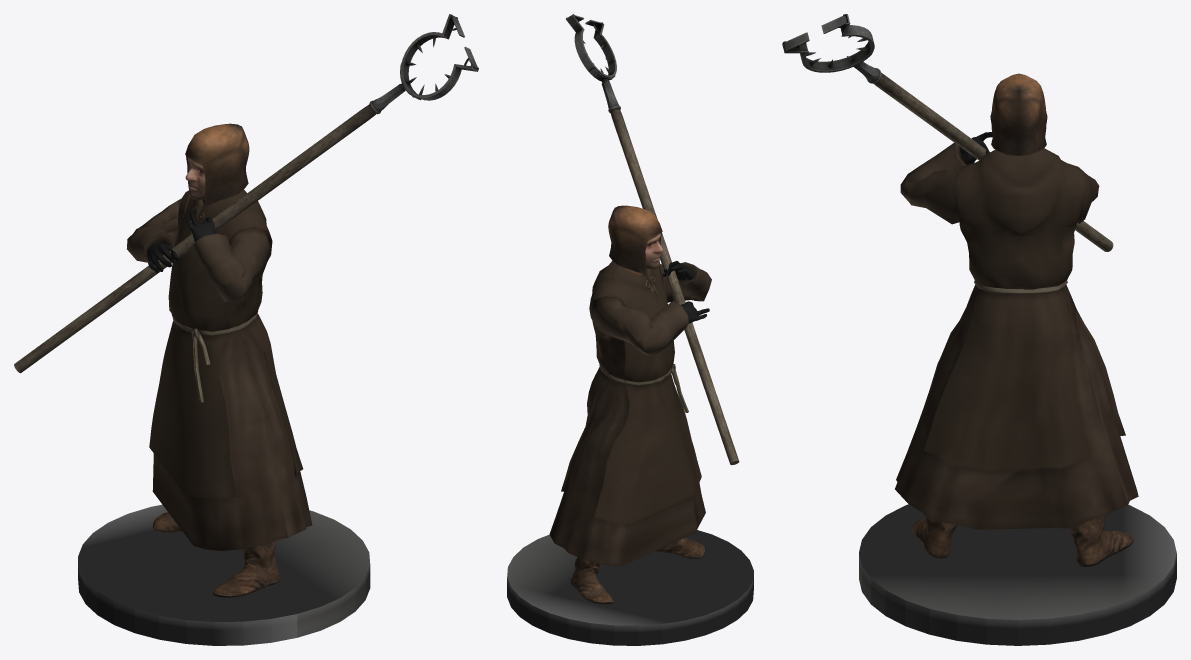
3 renders of one model, left to right at view 1: azimuth 30°, elevation 25°; view 2: azimuth 150°, elevation 25°; view 3: azimuth 270°, elevation 25°, orthographic. The views are drawn at different scales.
Parts seen in each view (by area): view 1: monkrobesmale.smd; view 2: monkrobesmale.smd; view 3: monkrobesmale.smd.
Part boxes in pixels (x1,y1,x2,y2): monkrobesmale.smd: (14, 14, 478, 645); monkrobesmale.smd: (507, 14, 753, 645); monkrobesmale.smd: (782, 14, 1176, 645).
Bounding box in the file's own units: 1.28 × 2.23 × 1.24.
Materials: 1 (1 with a texture image).
